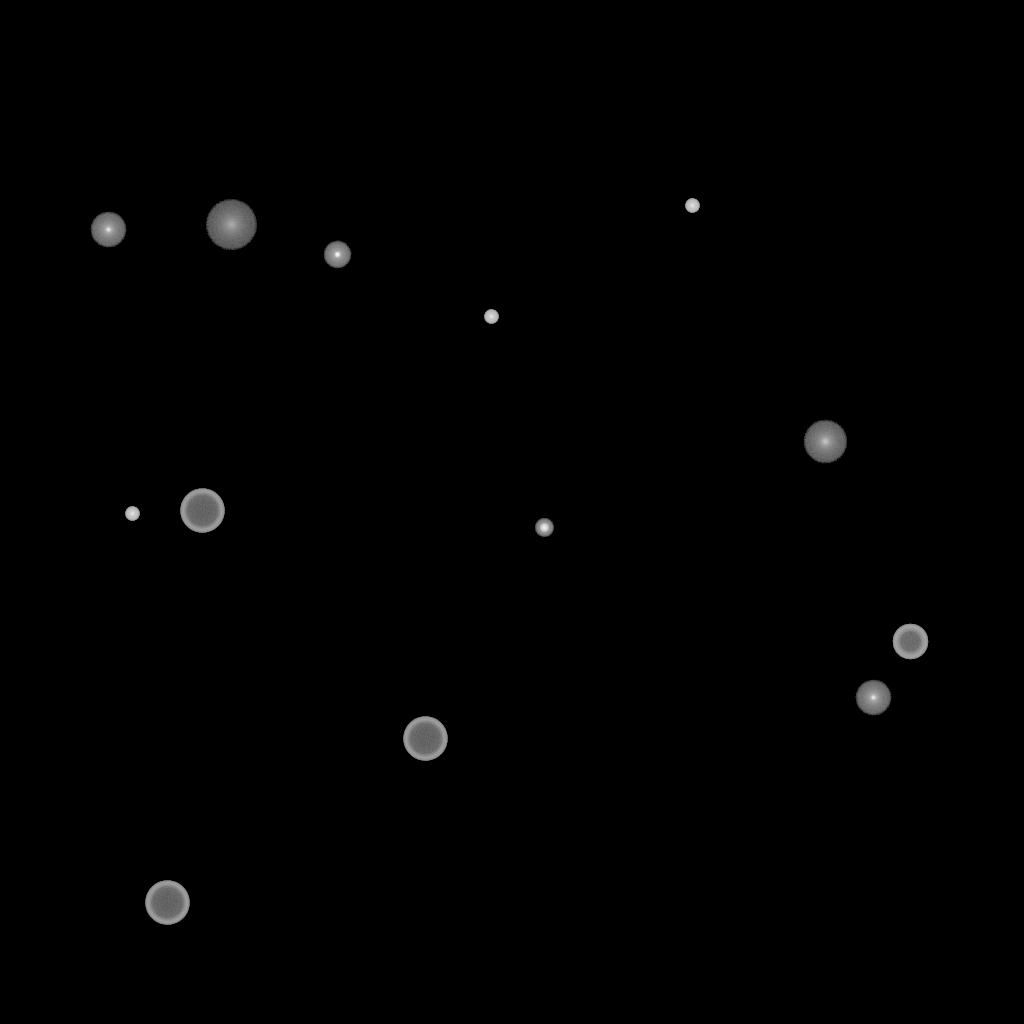depth:-10: (323, 241, 351, 269)
depth:-20: (535, 519, 553, 537)
depth:-30: (484, 310, 498, 324), (125, 507, 139, 521), (685, 199, 699, 213)
depth:-60: (892, 624, 928, 660)
depth:-70: (145, 881, 189, 925), (180, 489, 224, 533), (403, 717, 447, 761)
depth:0: (855, 680, 891, 716), (90, 212, 126, 248)
depth:10: (803, 420, 847, 464)
depth:20: (205, 200, 257, 250)
